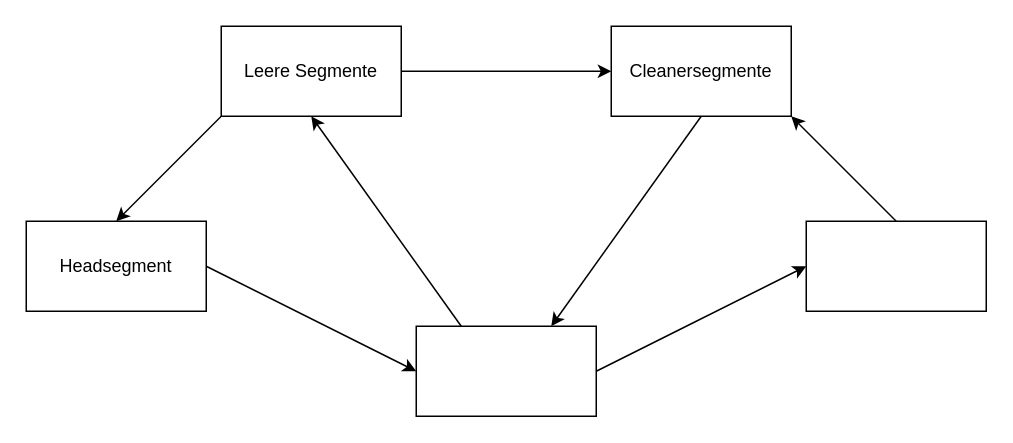
Some shapes in this 1013 by 443 pixel diagram are drawn without their labels. The centre of each missing label's shape, as x and y in pixels:
"Benutzte Segmente" goes at point 505,370.
"Notfallsegmente" goes at point 895,265.
